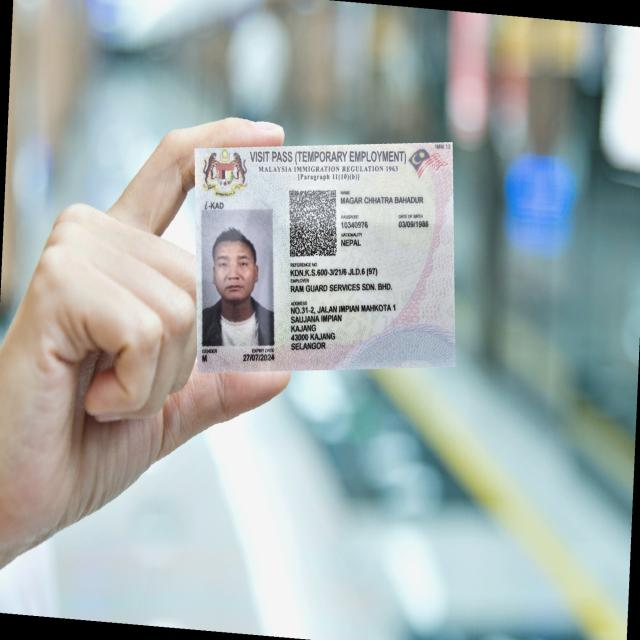ikad-temp: (194, 141, 456, 373)
